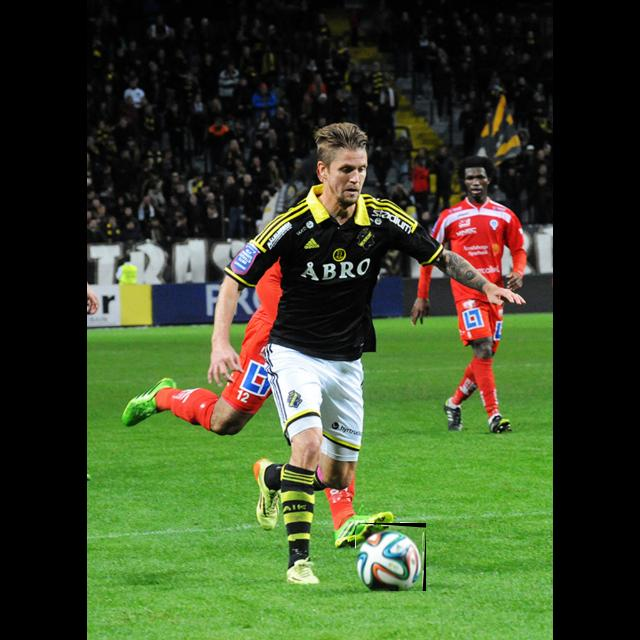Football: (356, 523, 426, 591)
